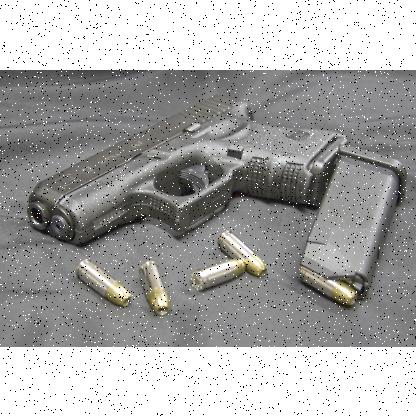gun: (27, 92, 347, 244)
